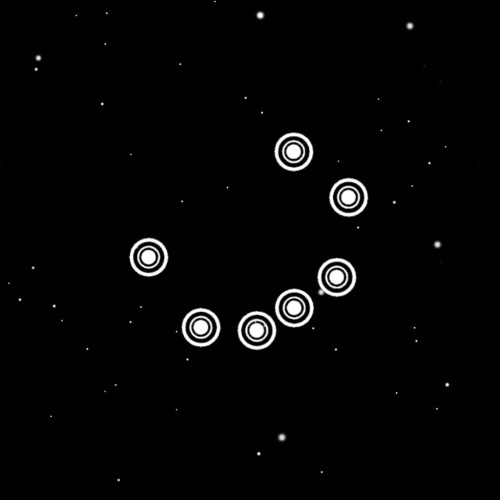corona_borealis: (124, 126, 372, 355)
